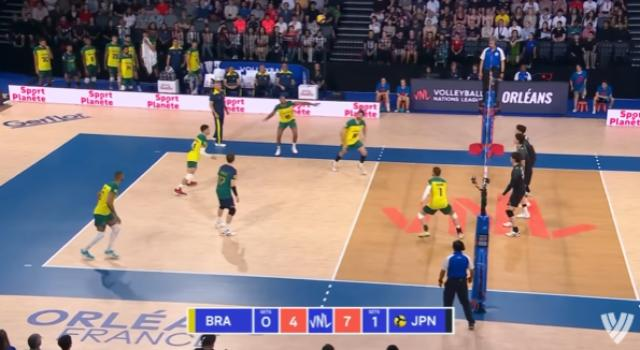Levantador: (404, 156, 472, 246), (512, 118, 528, 140)
Libero: (209, 146, 249, 246)
bola: (308, 7, 332, 29)
